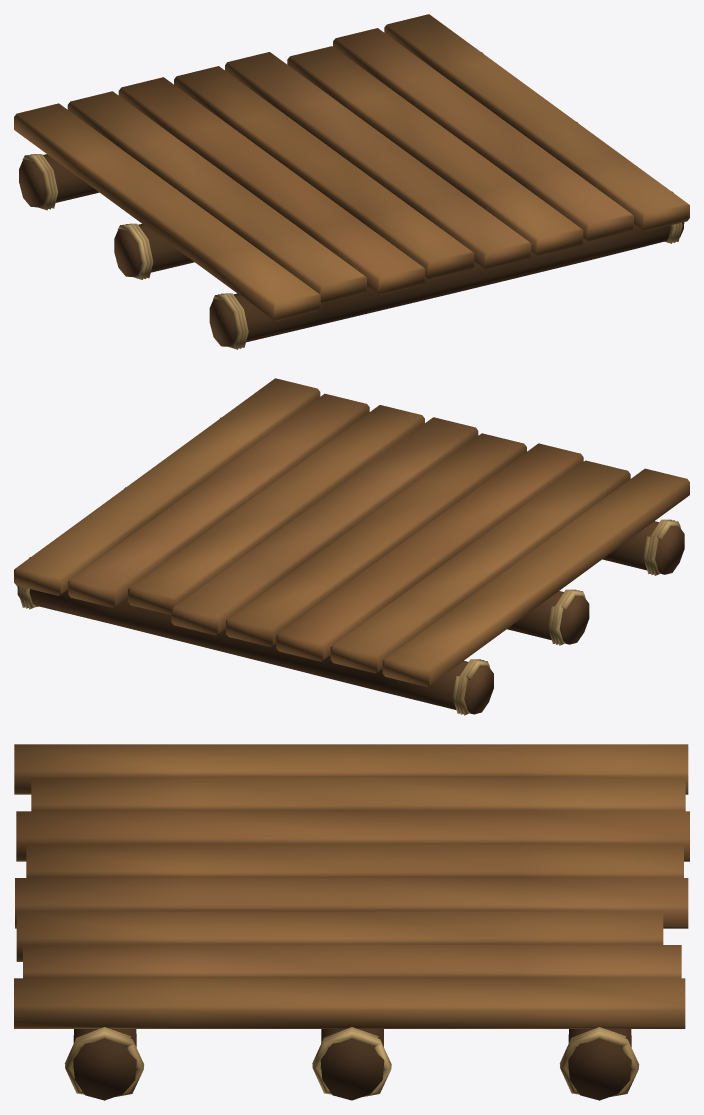
The model's file is platform_wood.glb.
The picture shows the model from 3 angles, top to bottom: view 1: azimuth 30°, elevation 25°; view 2: azimuth 150°, elevation 25°; view 3: azimuth 270°, elevation 25°; orthographic projection. The views are drawn at different scales.
Parts seen in each view (by area): view 1: platform_wood; view 2: platform_wood; view 3: platform_wood.
Part boxes in pixels (bbox=[...]): platform_wood: bbox=[14, 14, 689, 349]; platform_wood: bbox=[14, 378, 689, 715]; platform_wood: bbox=[14, 744, 689, 1100].
Size of the model in its own units: 2.6 by 0.35 by 2.59.
